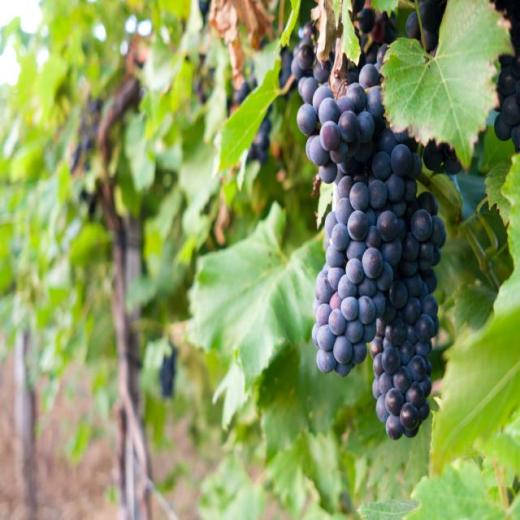Orange: (290, 0, 447, 439), (492, 53, 520, 148), (422, 140, 441, 174), (443, 149, 463, 170), (420, 0, 436, 24), (406, 12, 418, 42), (422, 28, 434, 51)
